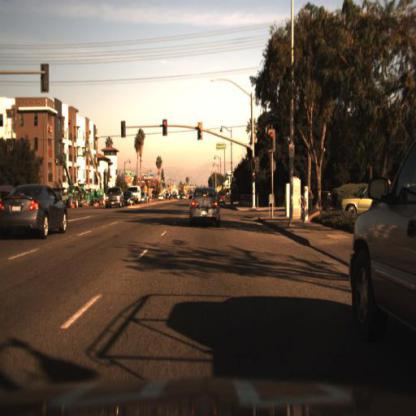car: (2, 183, 70, 249), (338, 180, 379, 220), (188, 187, 221, 229), (107, 188, 126, 210), (132, 184, 142, 208), (124, 191, 135, 207)
trafficLight: (196, 122, 206, 145)
trafficLight-Red: (271, 127, 279, 156), (161, 120, 169, 144), (252, 156, 260, 174)
